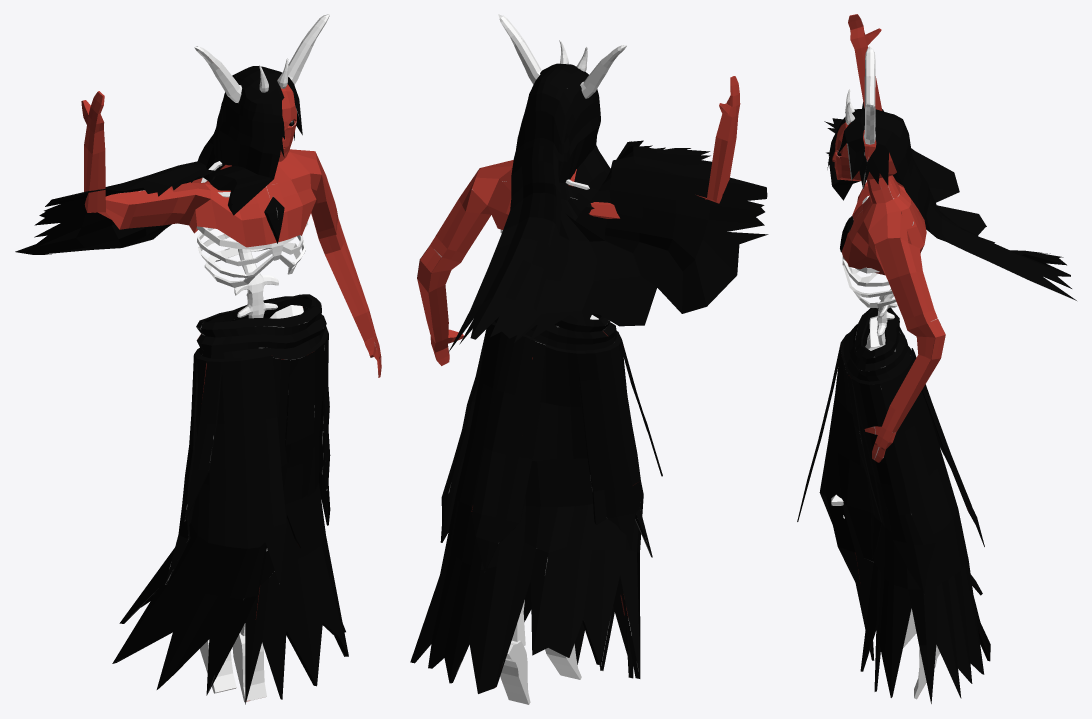
Rendered from cursedqueenattack_08.fbx.
3 renders of one model, left to right at view 1: azimuth 30°, elevation 25°; view 2: azimuth 150°, elevation 25°; view 3: azimuth 270°, elevation 25°, orthographic. The views are drawn at different scales.
Visible parts, largest first — view 1: cursed_queen; view 2: cursed_queen; view 3: cursed_queen.
Part boxes in pixels (x1=…): cursed_queen: x1=15, y1=14, x2=381, y2=704; cursed_queen: x1=410, y1=14, x2=768, y2=704; cursed_queen: x1=797, y1=14, x2=1076, y2=703.
Bounding box in the file's own units: 148 × 280 × 116.
